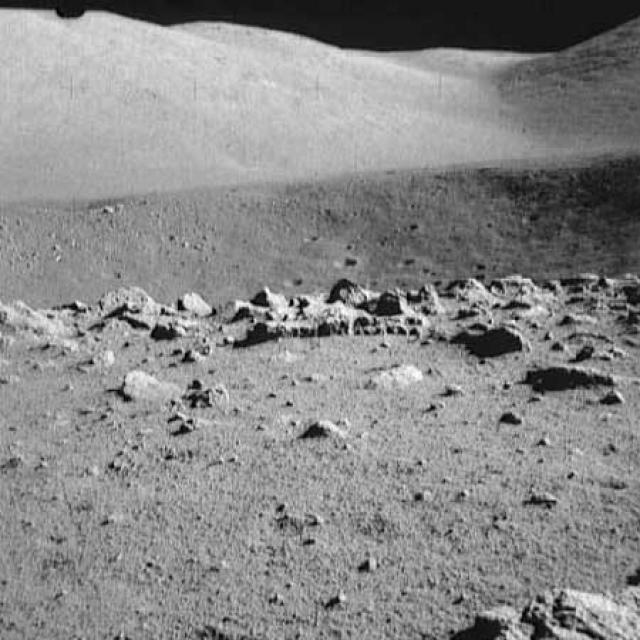rock: (455, 570, 639, 639), (248, 304, 386, 344), (94, 285, 218, 323), (518, 358, 638, 396), (552, 268, 638, 308), (410, 277, 495, 313), (319, 279, 410, 312), (0, 296, 69, 337), (110, 360, 163, 404), (464, 322, 529, 353), (222, 288, 290, 317), (494, 274, 551, 306), (300, 412, 348, 438)
